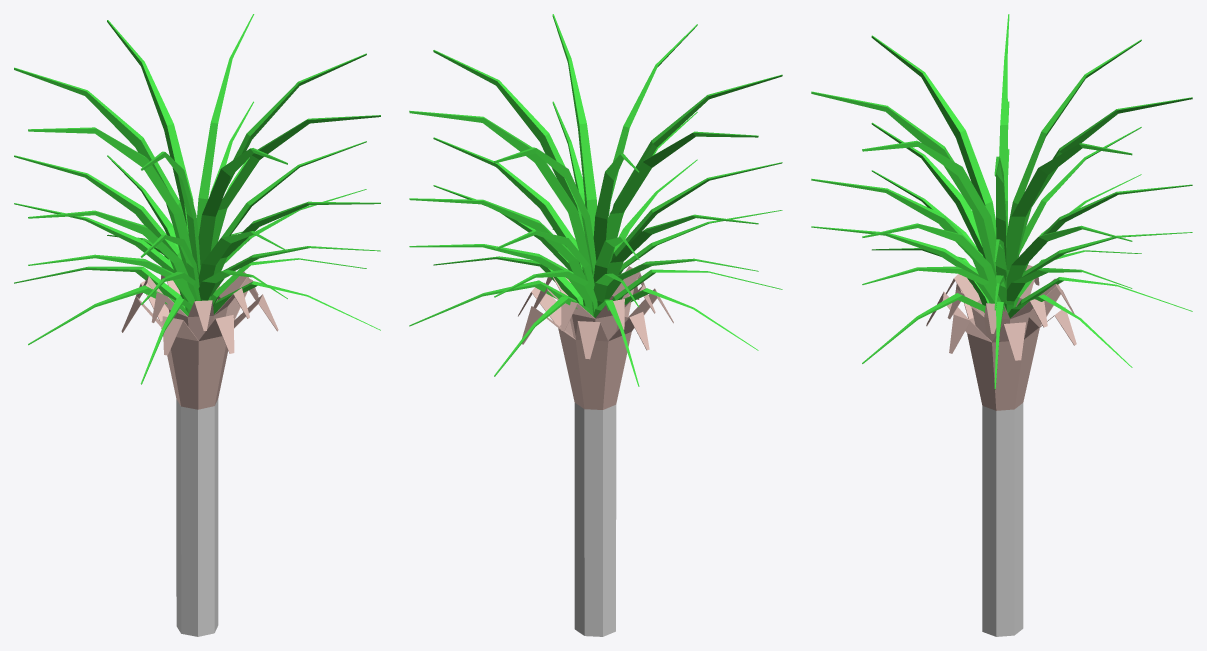
File: IG_Tree 4.fbx
3 renders of one model, left to right at view 1: azimuth 30°, elevation 25°; view 2: azimuth 150°, elevation 25°; view 3: azimuth 270°, elevation 25°, orthographic.
Visible parts, largest first — view 1: IG_Tree 4; view 2: IG_Tree 4; view 3: IG_Tree 4.
Boxes of the visible parts, x1,y1,x2,y2 form: IG_Tree 4: (14, 14, 380, 636); IG_Tree 4: (409, 14, 782, 636); IG_Tree 4: (811, 14, 1192, 636).
Bounding box in the file's own units: 590 × 910 × 590.
